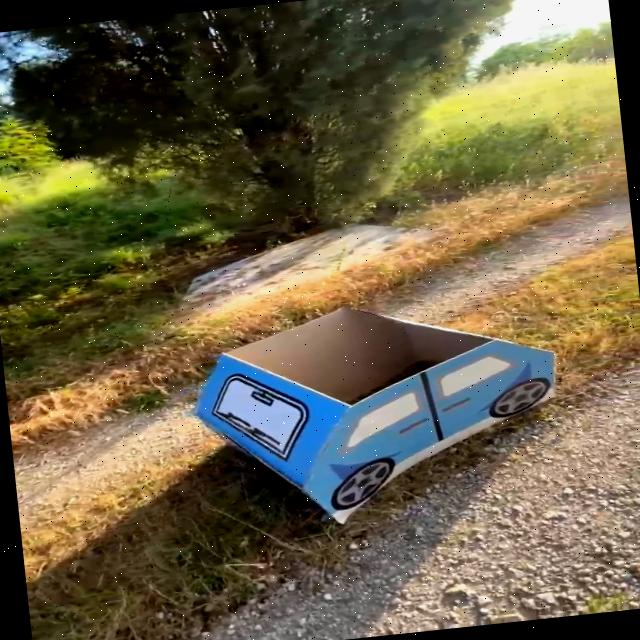blue_car: (97, 253, 639, 572)
